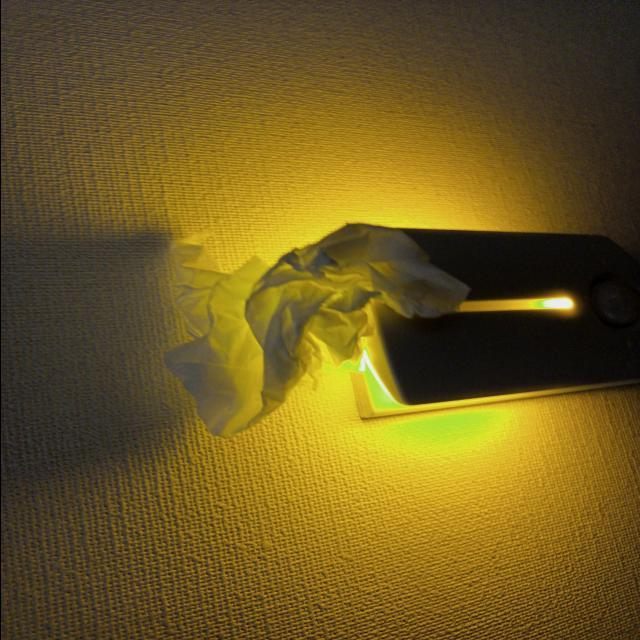Paper: (146, 211, 483, 433)
